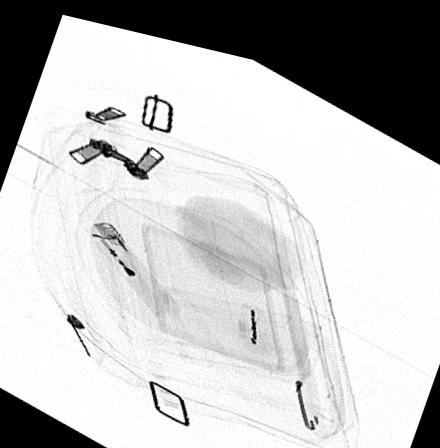Lighter: (87, 216, 182, 312)
